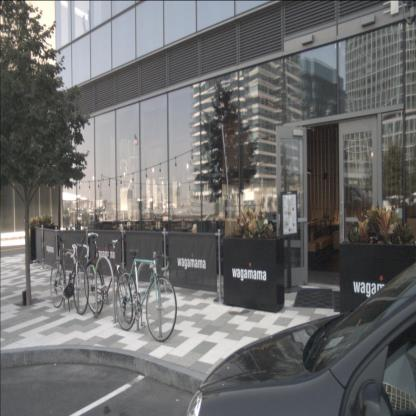vehicle-car: (186, 255, 415, 415), (328, 185, 378, 219)
